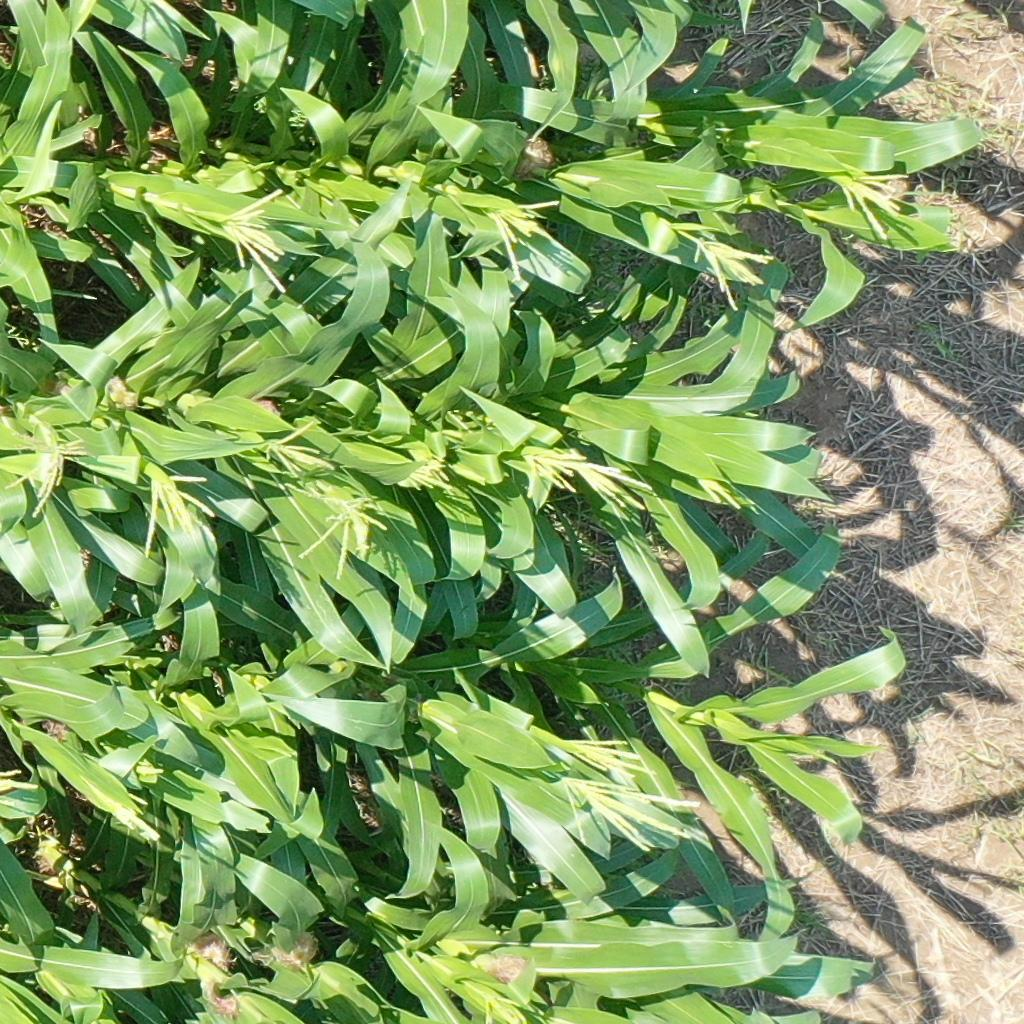Tassel: (557, 774, 703, 857), (213, 183, 295, 294), (11, 410, 88, 514), (298, 487, 383, 578), (689, 233, 771, 313), (485, 200, 560, 285), (139, 472, 211, 557), (836, 168, 908, 246), (256, 420, 330, 484), (557, 731, 650, 778), (570, 458, 653, 507), (519, 445, 588, 501), (103, 793, 167, 840), (400, 456, 454, 494), (475, 992, 533, 1024), (692, 476, 742, 510), (1, 767, 37, 797), (133, 762, 162, 776)
